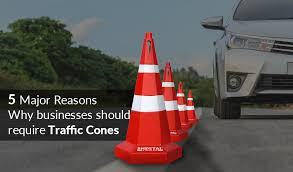cones: (117, 30, 183, 166), (163, 63, 190, 144)
